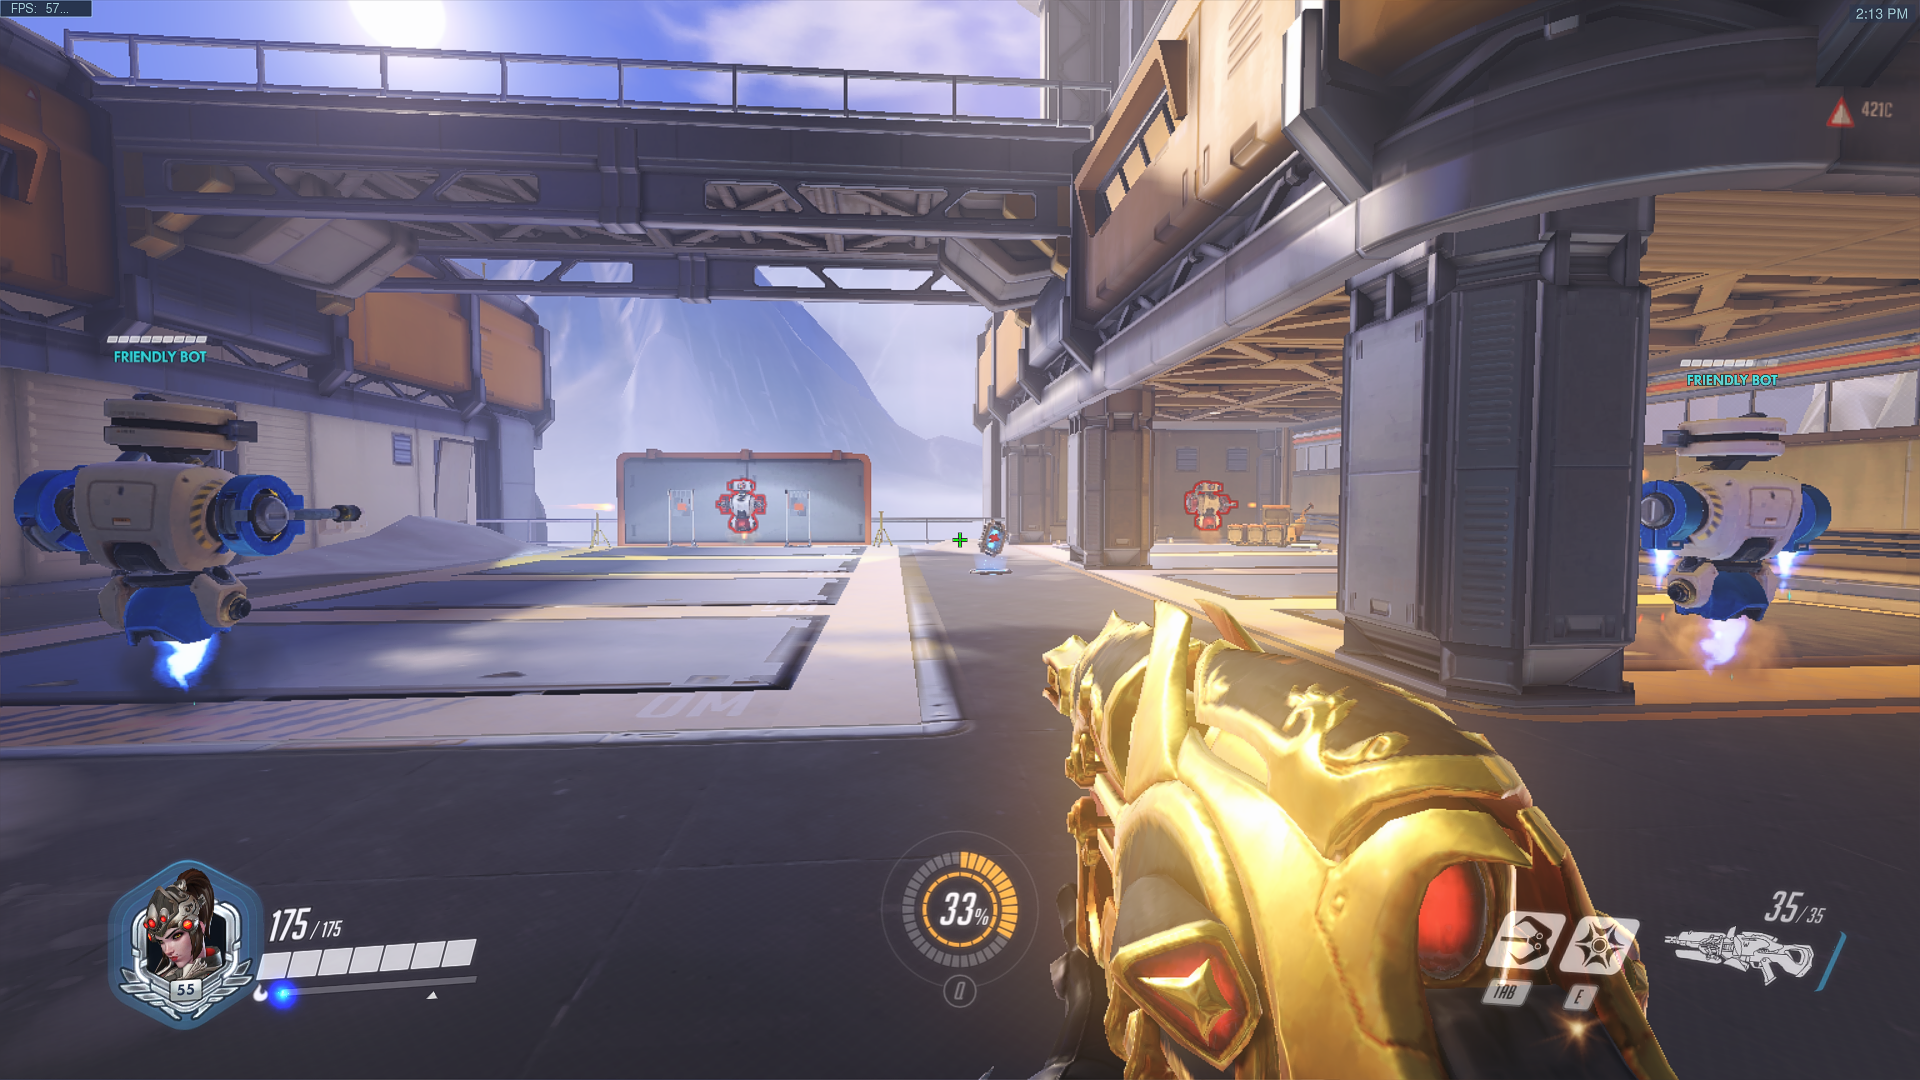head: (99, 382, 251, 460), (1668, 412, 1792, 469), (724, 475, 758, 497), (1192, 477, 1223, 496)
